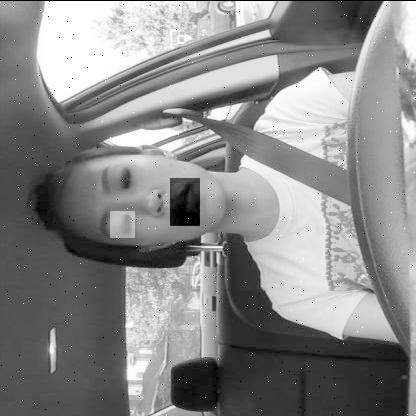seatbelt: (11, 136, 351, 278)
